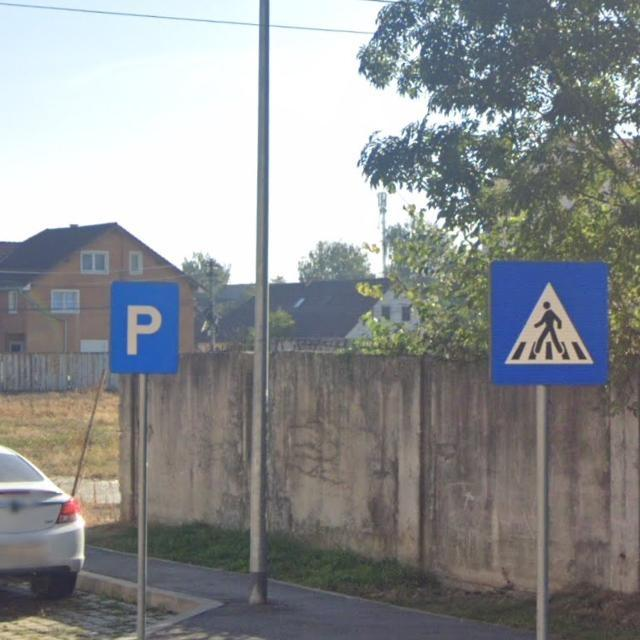info_crosswalk: (489, 260, 608, 385)
